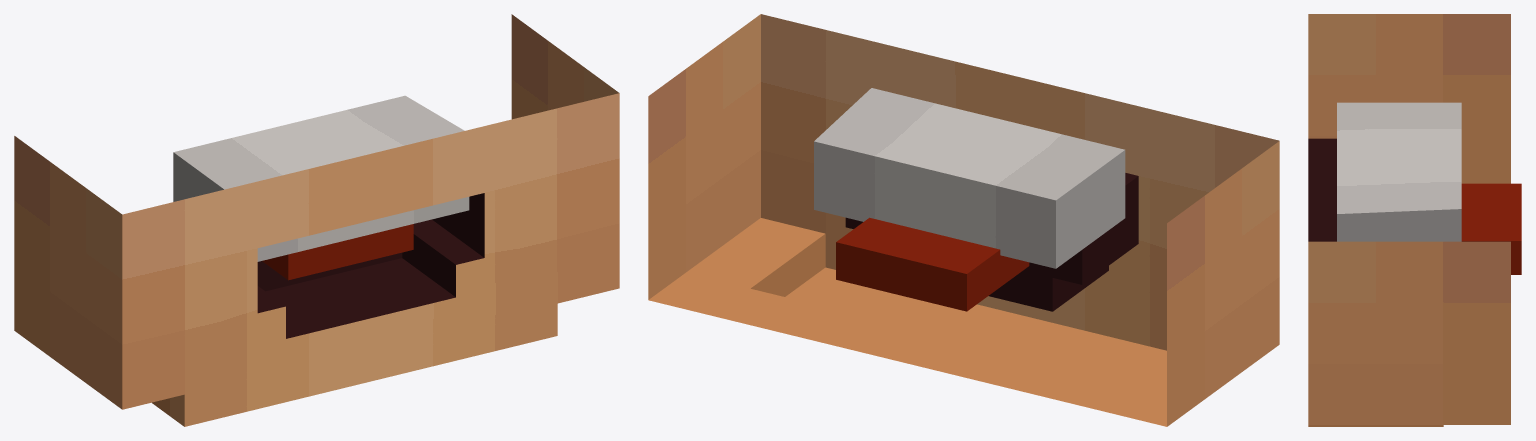
The model's file is skM1_jesse_mouthLL.glb.
The picture shows the model from 3 angles, left to right: view 1: azimuth 30°, elevation 25°; view 2: azimuth 150°, elevation 25°; view 3: azimuth 270°, elevation 25°; orthographic projection. The views are drawn at different scales.
Parts seen in each view (by area): view 1: skM1_jesse; view 2: skM1_jesse; view 3: skM1_jesse.
Part boxes in pixels (left/top/right/bottom): skM1_jesse: left=14, top=14, right=619, bottom=426; skM1_jesse: left=648, top=14, right=1279, bottom=426; skM1_jesse: left=1308, top=14, right=1521, bottom=426.
Bounding box in the file's own units: 0.5012 × 0.2194 × 0.1986.
1 material, 1 textured.
